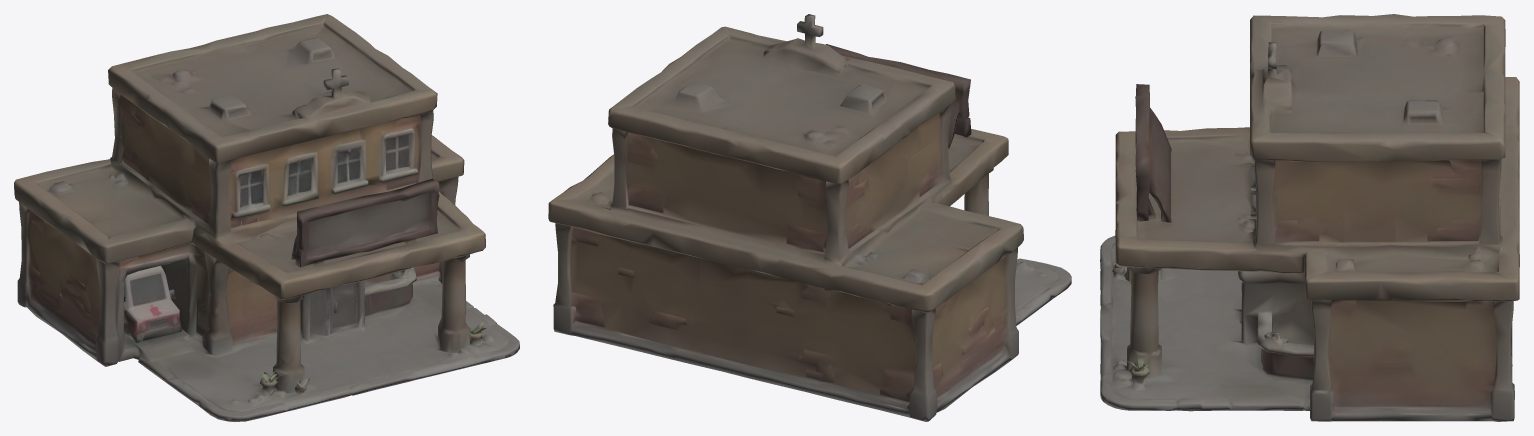
File: hospital_main.glb
3 renders of one model, left to right at view 1: azimuth 30°, elevation 25°; view 2: azimuth 150°, elevation 25°; view 3: azimuth 270°, elevation 25°, orthographic. The views are drawn at different scales.
Parts seen in each view (by area): view 1: tripo_node_377a5776-b757-4c58-bfb3-189e798db17e; view 2: tripo_node_377a5776-b757-4c58-bfb3-189e798db17e; view 3: tripo_node_377a5776-b757-4c58-bfb3-189e798db17e.
Part boxes in pixels (x1,y1,x2,y2): tripo_node_377a5776-b757-4c58-bfb3-189e798db17e: [14, 14, 519, 421]; tripo_node_377a5776-b757-4c58-bfb3-189e798db17e: [548, 14, 1071, 421]; tripo_node_377a5776-b757-4c58-bfb3-189e798db17e: [1100, 14, 1519, 421].
Bounding box in the file's own units: 1 × 0.6781 × 0.8629.
Materials: 1 (1 with a texture image).
